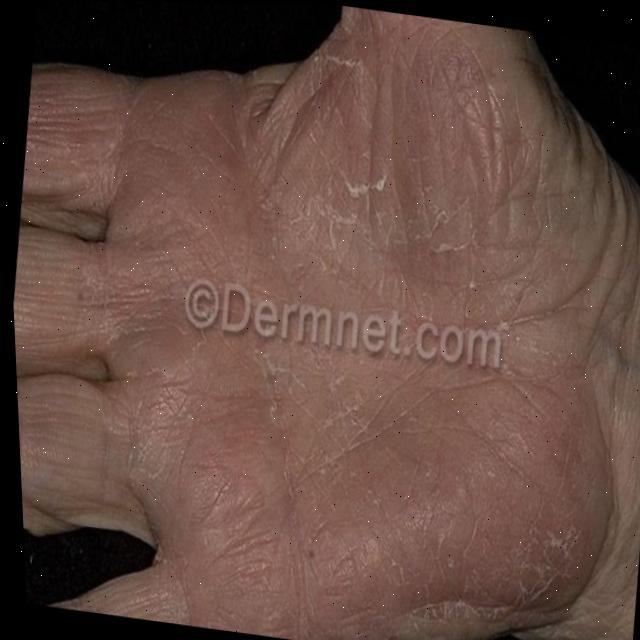Eczema: (91, 25, 639, 640)
